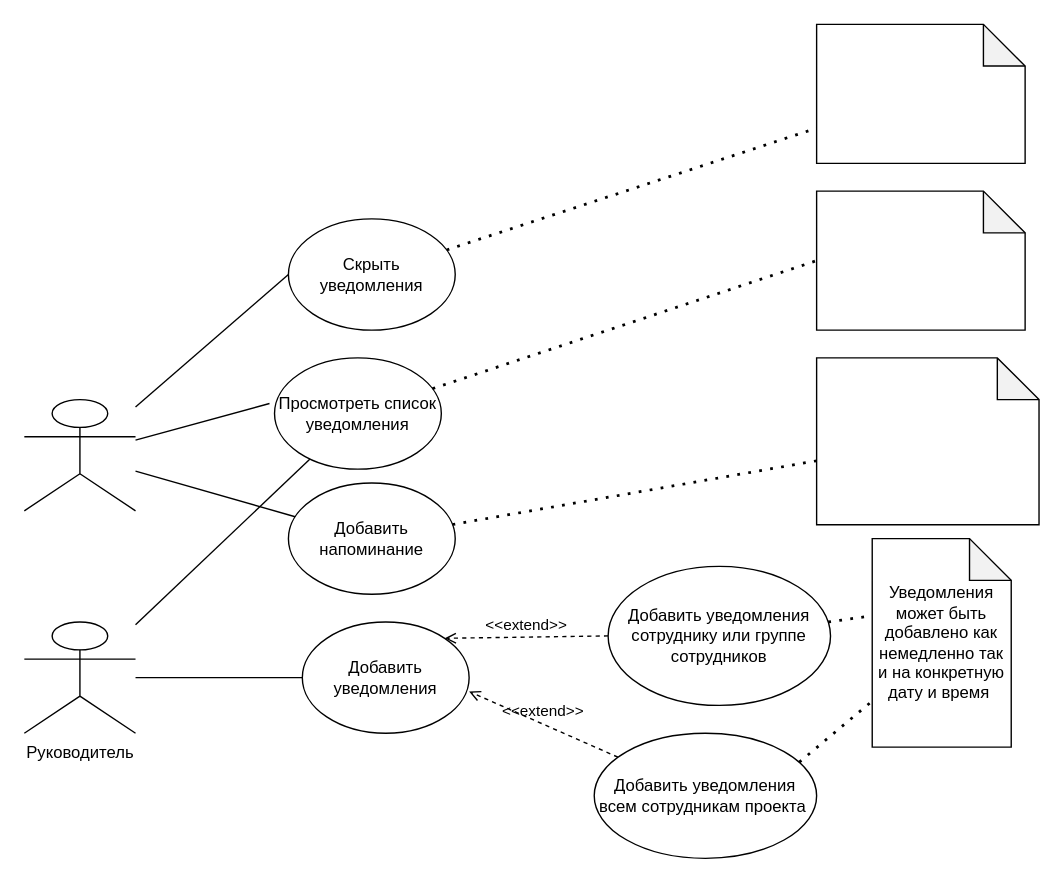
Some shapes in this 1063 by 883 pixel diagram are drawn without their labels. Each missing label, with the centre of its shape:
Для сотрудника видные только уведомления в которых от отмечен: (920,260)
Напоминание добавляет уведомления этому сотруднику на конкретную дату и время: (927,441)
При скрытии уведомление не удаляется я просто не выводится: (920,93)
Сотрудник: (79,454)
